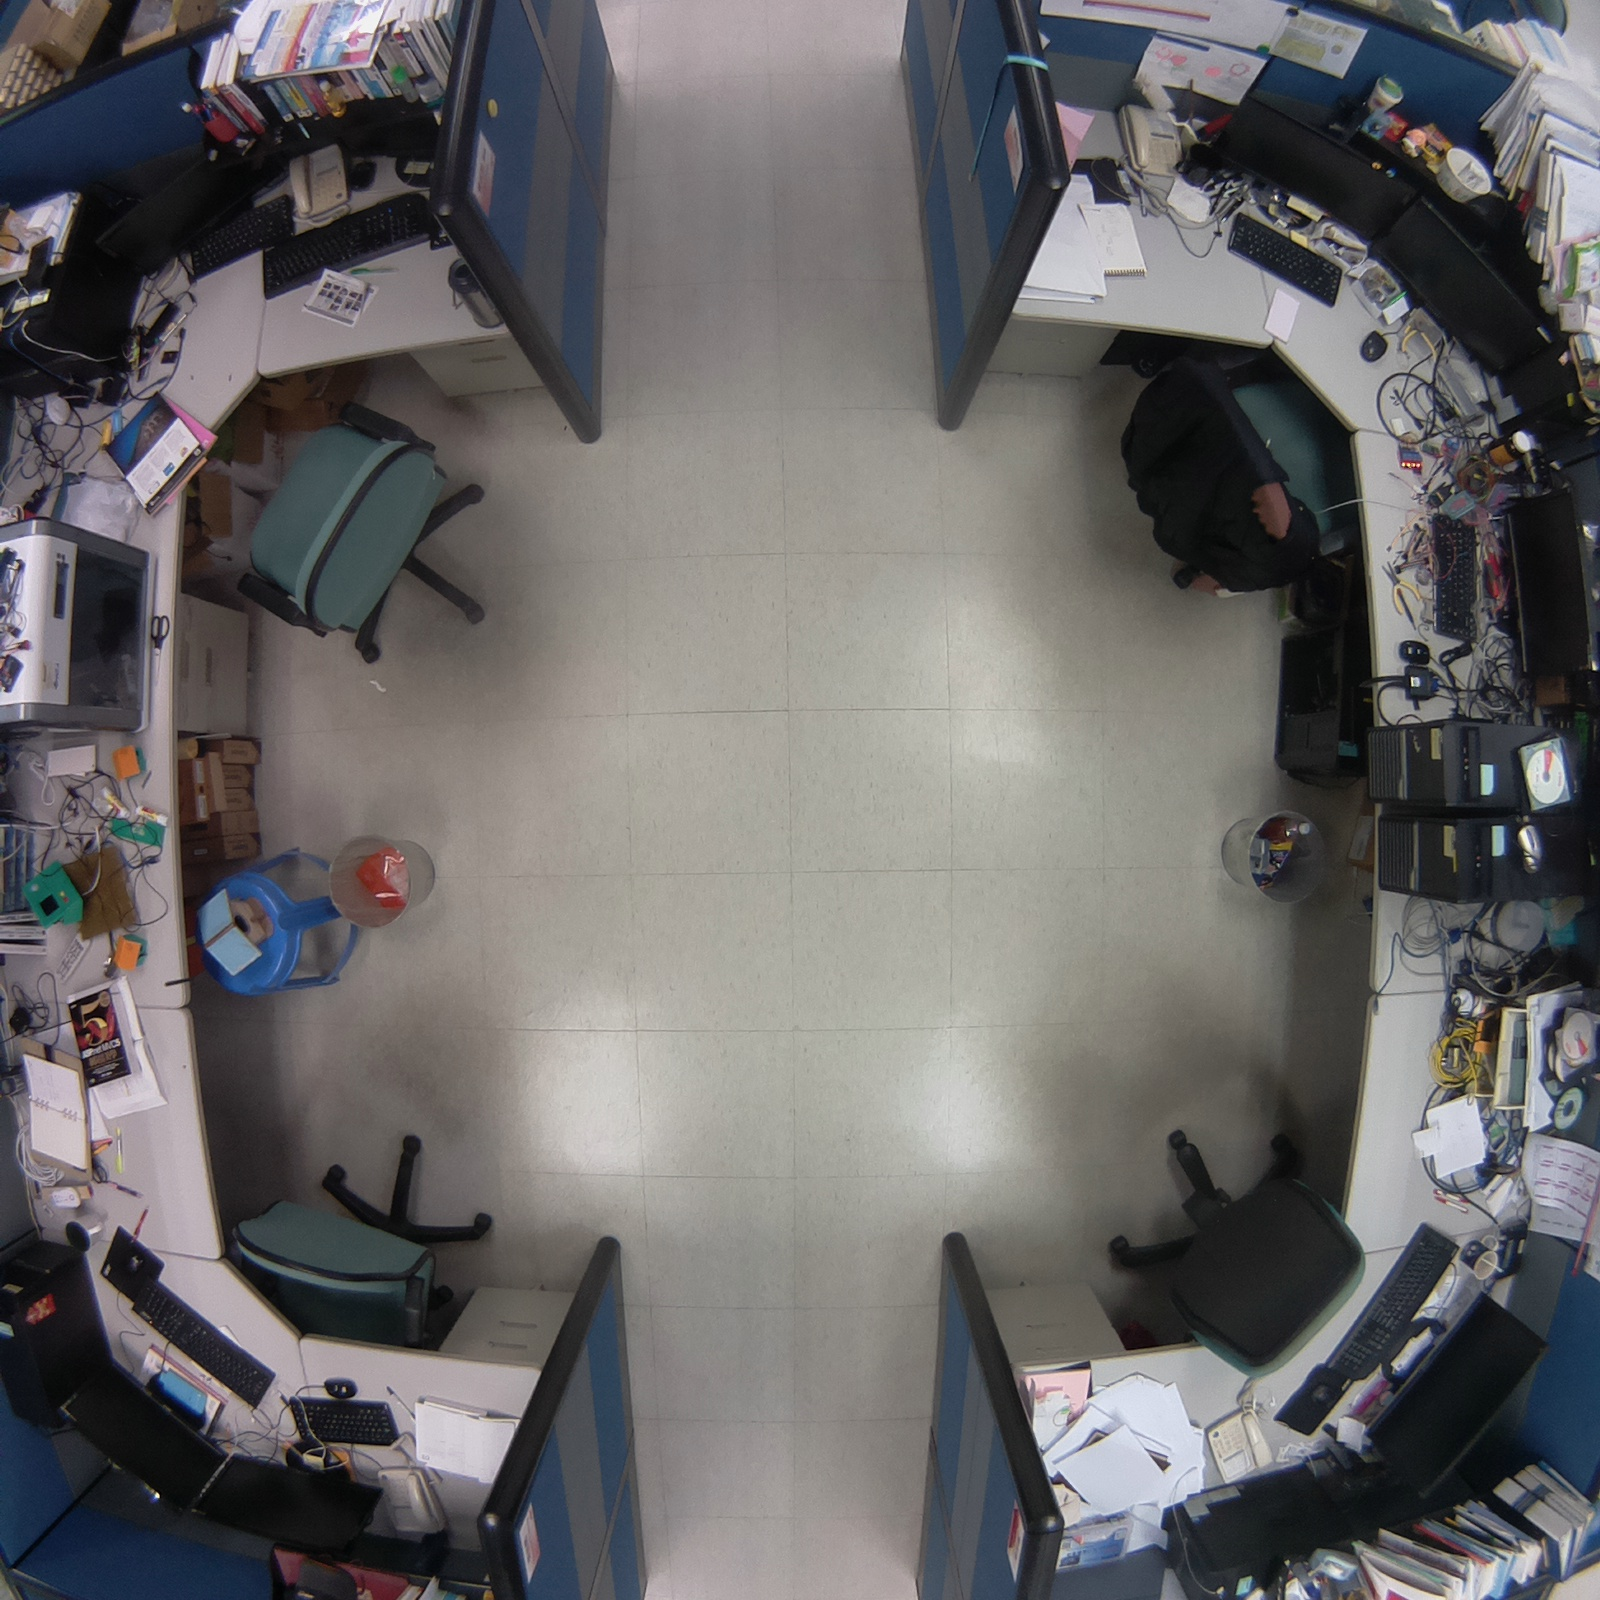chair: (204, 378, 508, 681), (1092, 1095, 1382, 1390), (1108, 347, 1386, 611), (210, 1122, 510, 1355)
